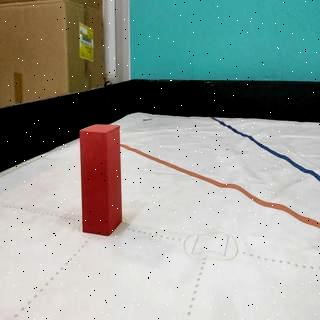redbox: (79, 122, 124, 237)
